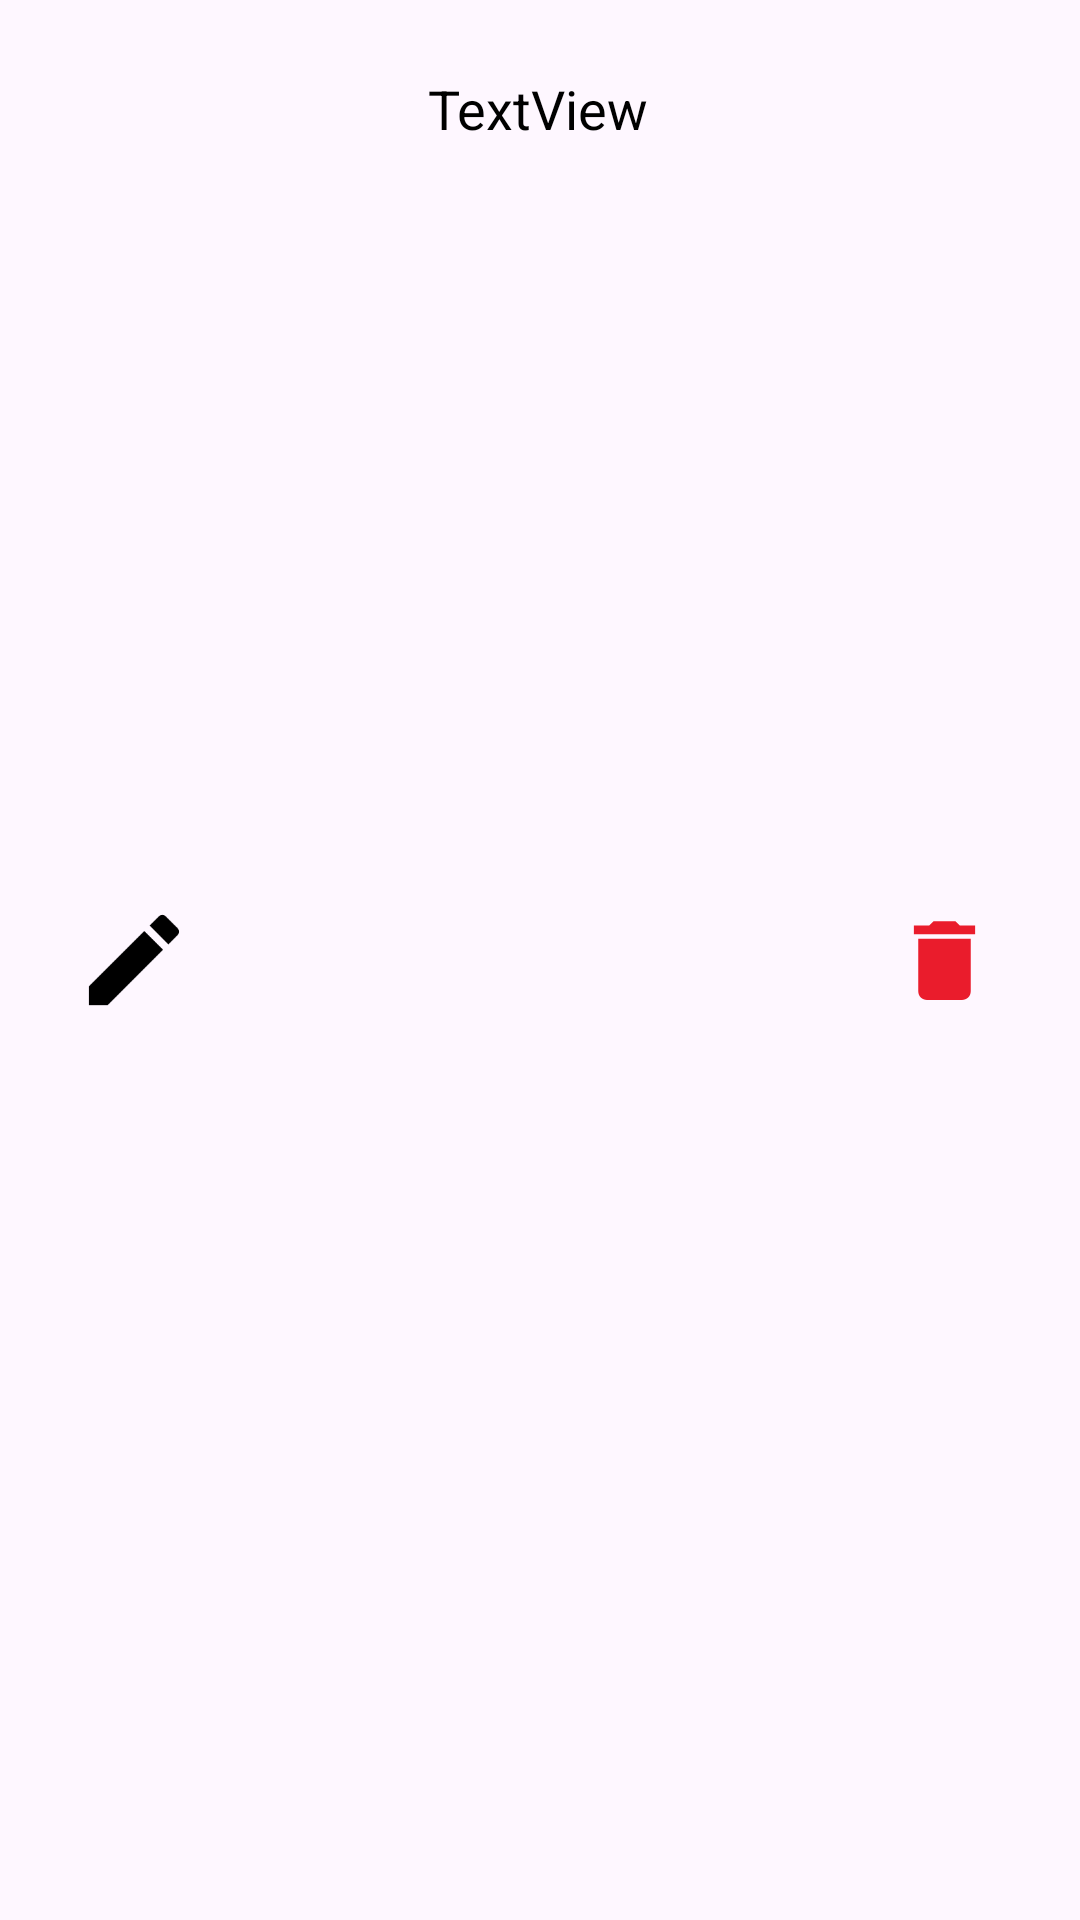

Named icons in this screenshot (1080 × 1920) and their bounding boxes, Rect(x1, y1, x2, y2):
delete: Rect(913, 921, 976, 1000)
edit: Rect(89, 914, 179, 1006)
